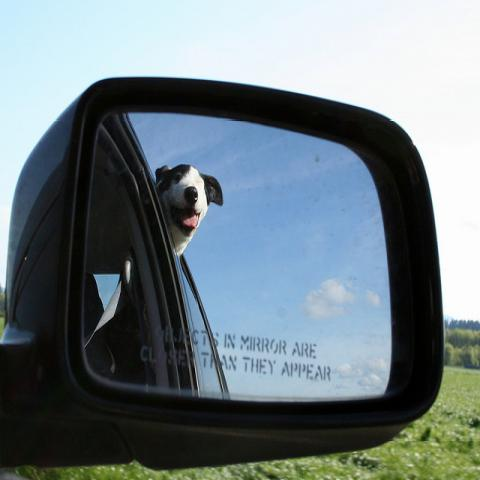car: (2, 65, 447, 473)
